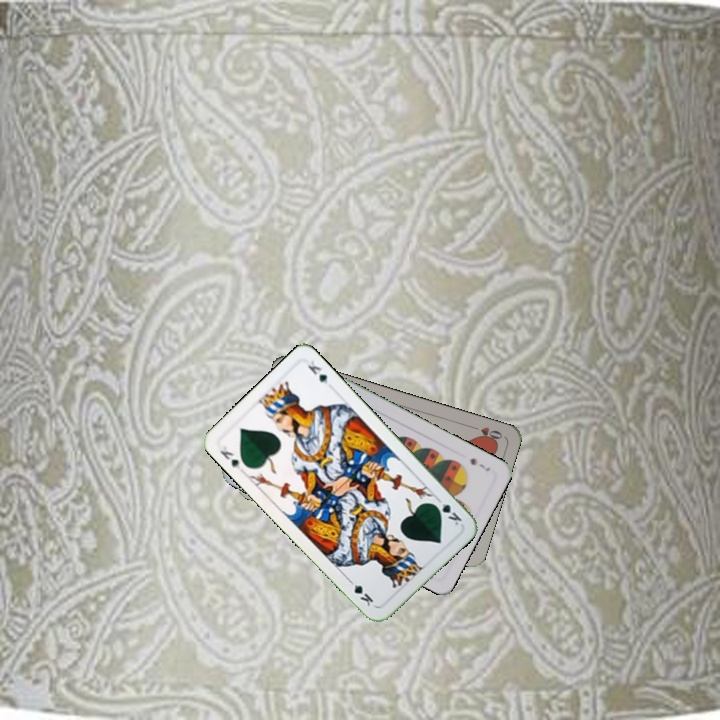GK: (429, 494, 465, 528), (216, 442, 244, 472)
HO: (466, 421, 505, 444)
S7: (466, 454, 493, 474)
